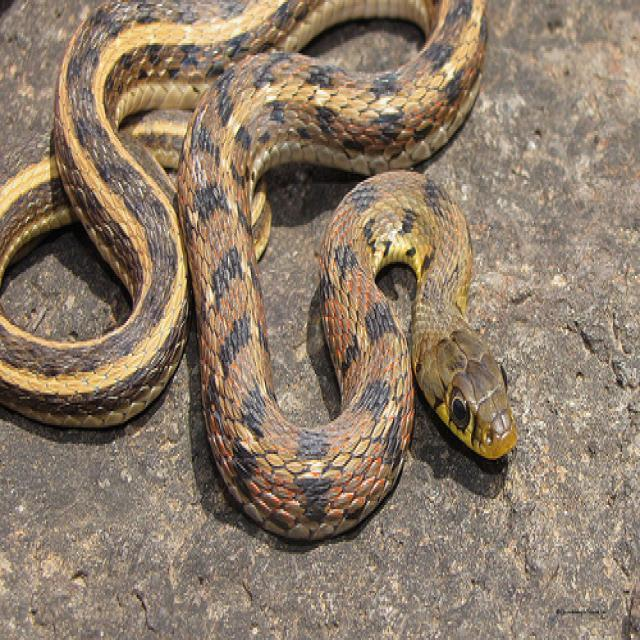Snake: (0, 0, 517, 544)
